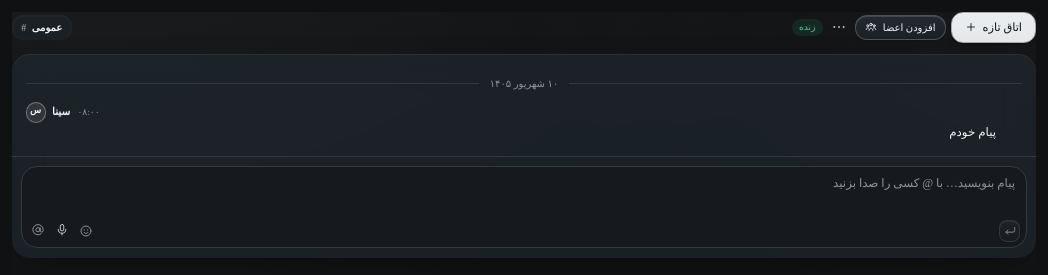
Test case: reacting to a message › offers no way to DELETE a message, and still offers the reply
Right-click the text "پیام خودم" at x=973, y=132, box [949,124,996,138]
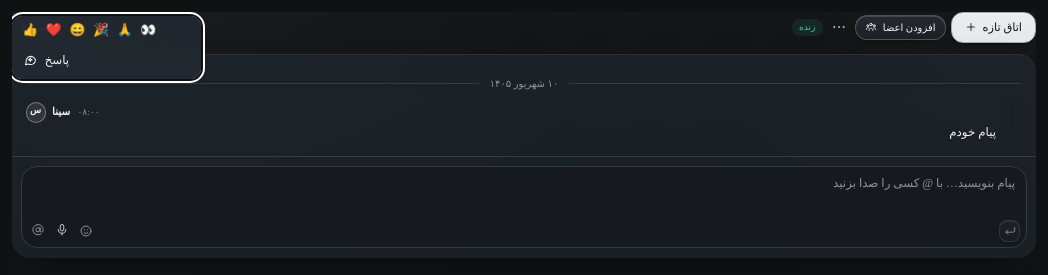
Check: the menu item "پاسخ" is shown, box [23,52,69,68]
